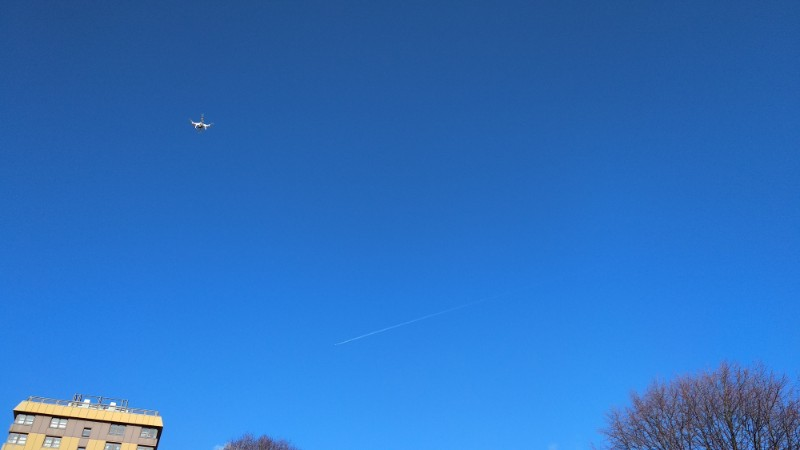drone: (189, 113, 215, 132)
